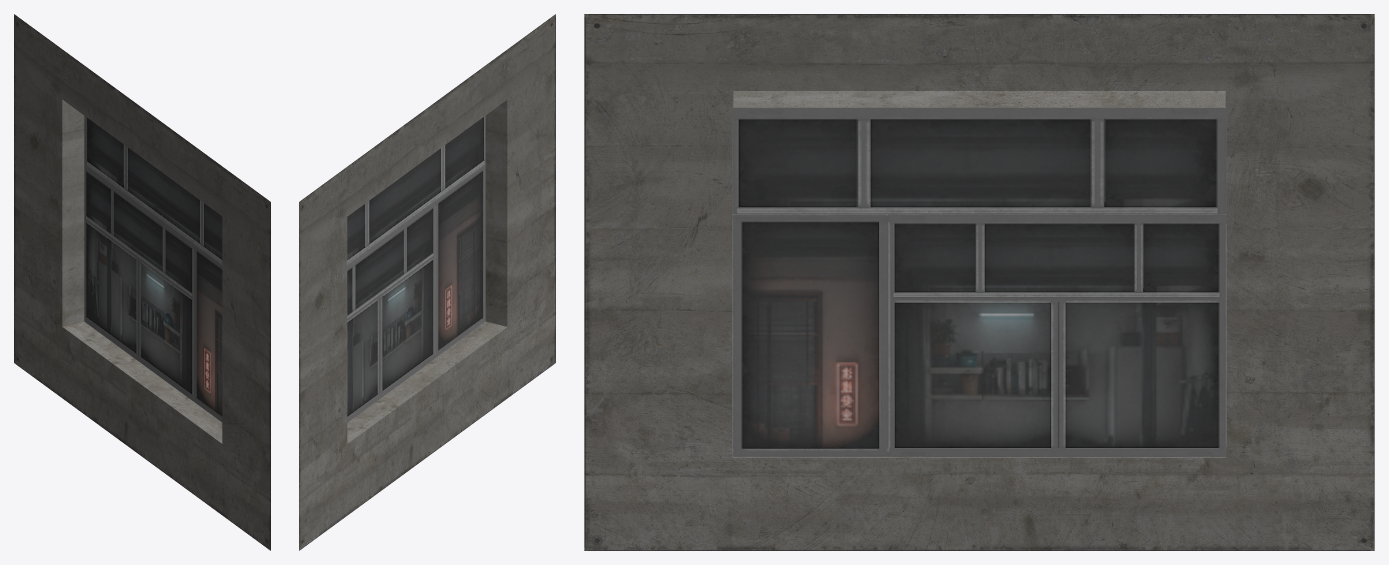
File: CP_Windows_B_4x3m_03.fbx
The picture shows the model from 3 angles, left to right: view 1: azimuth 30°, elevation 25°; view 2: azimuth 150°, elevation 25°; view 3: azimuth 270°, elevation 25°; orthographic projection. The views are drawn at different scales.
Parts seen in each view (by area): view 1: CP_Windows_B_4x3m_03; view 2: CP_Windows_B_4x3m_03; view 3: CP_Windows_B_4x3m_03.
Part boxes in pixels (x1,y1,x2,y2): CP_Windows_B_4x3m_03: (14, 14, 270, 550); CP_Windows_B_4x3m_03: (299, 14, 555, 550); CP_Windows_B_4x3m_03: (584, 14, 1374, 550).
Size of the model in its own units: 20.37 by 300 by 400.
